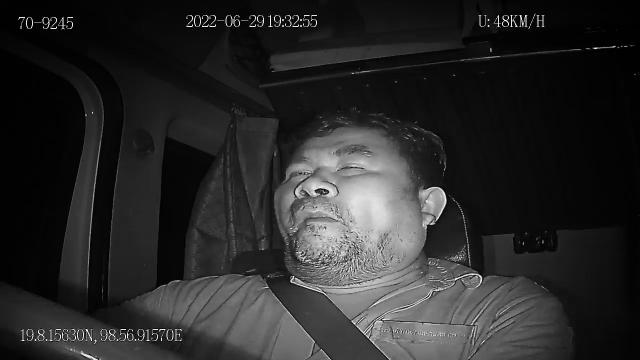Seatbelt: (262, 272, 392, 360)
